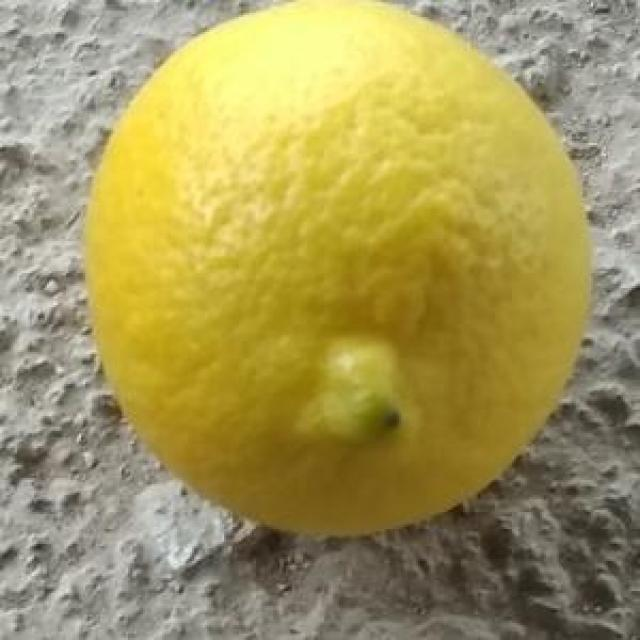lemon: (80, 4, 591, 534)
